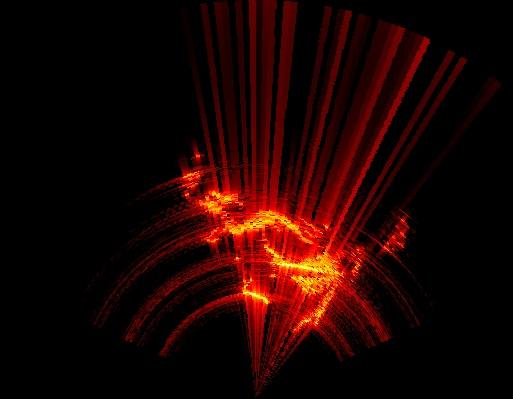shipwreck: (264, 243, 341, 327), (199, 191, 313, 242), (242, 280, 268, 303), (182, 171, 200, 197)
